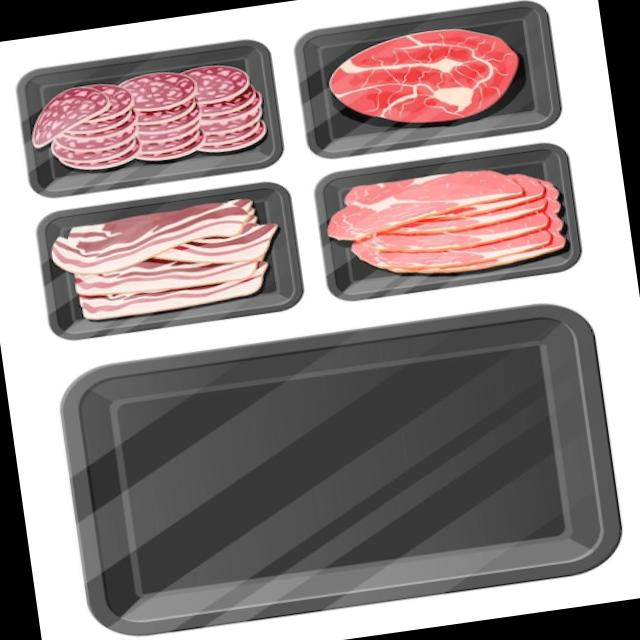pork: (0, 0, 592, 352)
